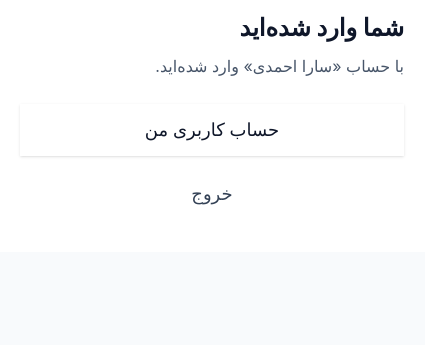
Test: LoginScreen › logs out from there with useLogout: busy meanwhile, then home with the toast
expect the text "با حساب «سارا احمدی» وارد شده‌اید." is shown: met, box [155, 56, 404, 76]
Click the button "خروج" at (212, 194), box [20, 168, 404, 220]
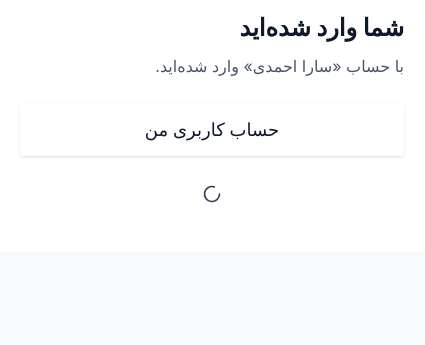
expect the button named "خروج" has attribute aria-busy="true": met
Click the button named "خروج" at (212, 194), box [20, 168, 404, 220]
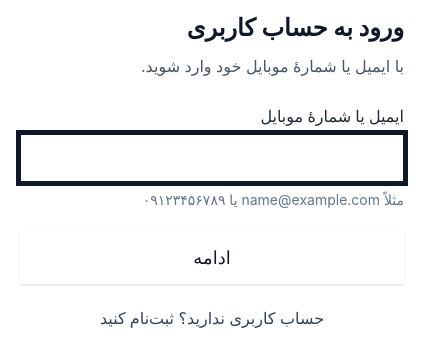
expect the field labelled "ایمیل یا شمارهٔ موبایل" is shown: met, box [21, 135, 403, 181]
